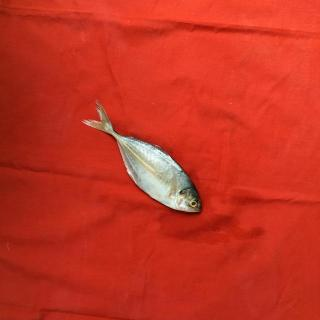Ikan: (88, 97, 210, 235)
